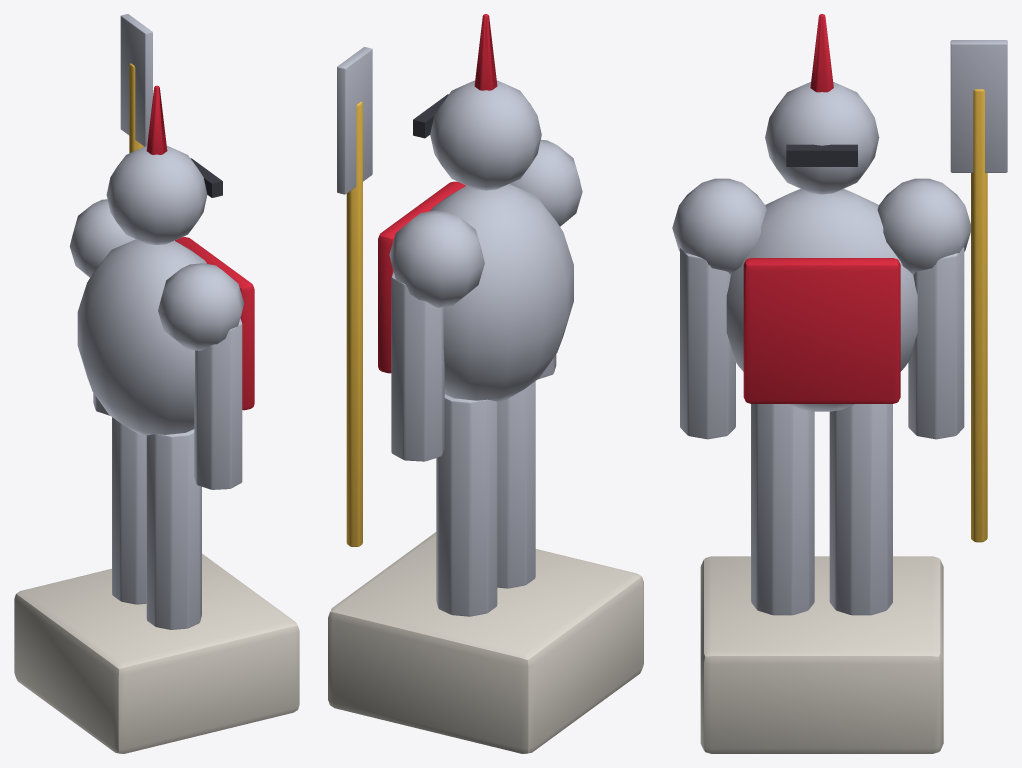
Rendered from HeroRoyal.fbx.
3 renders of one model, left to right at view 1: azimuth 30°, elevation 25°; view 2: azimuth 150°, elevation 25°; view 3: azimuth 270°, elevation 25°, orthographic. The views are drawn at different scales.
Parts seen in each view (by area): view 1: HeroRoyal; view 2: HeroRoyal; view 3: HeroRoyal.
Part boxes in pixels (x1,y1,x2,y2): HeroRoyal: [14, 14, 299, 753]; HeroRoyal: [328, 14, 643, 753]; HeroRoyal: [672, 14, 1007, 753].
Bounding box in the file's own units: 340 × 1070 × 470.
